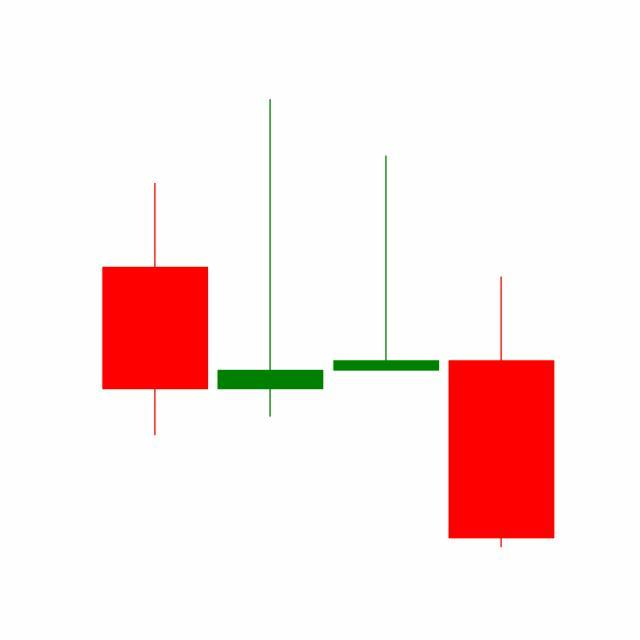Gravestone Doji: (329, 154, 445, 374)
